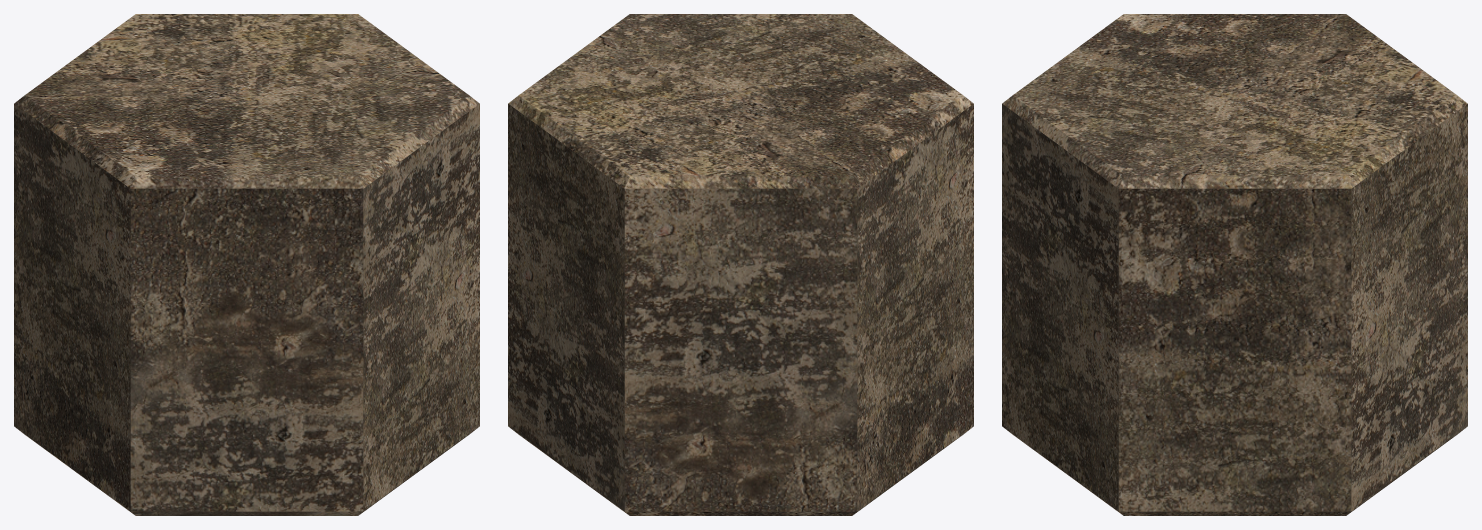
The model's file is materials_5_pedestal_4.fbx.
3 views of the same model, side by side, from view 1: azimuth 30°, elevation 25°; view 2: azimuth 150°, elevation 25°; view 3: azimuth 270°, elevation 25° (orthographic).
Parts seen in each view (by area): view 1: materials_5_pedestal_4; view 2: materials_5_pedestal_4; view 3: materials_5_pedestal_4.
Boxes of the visible parts, x1,y1,x2,y2 form: materials_5_pedestal_4: (14,14,479,515); materials_5_pedestal_4: (508,14,973,515); materials_5_pedestal_4: (1002,14,1467,515).
Size of the model in its own units: 58.08 by 53.9 by 67.06.
